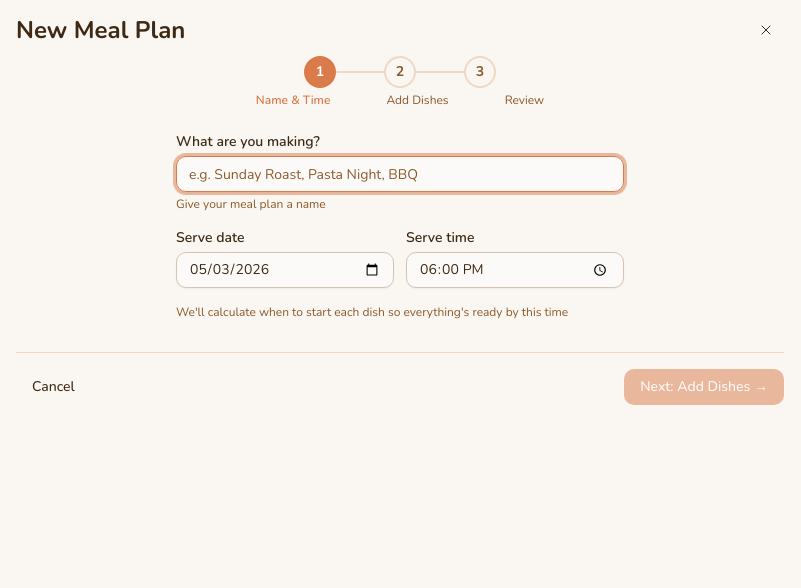
Test: CreatePlanWizard › Step 1 — Name & Time › navigates to step 2 when clicking Next
In the field labelled "What are you making?": (400, 174) [176,156,624,192], type "Test"
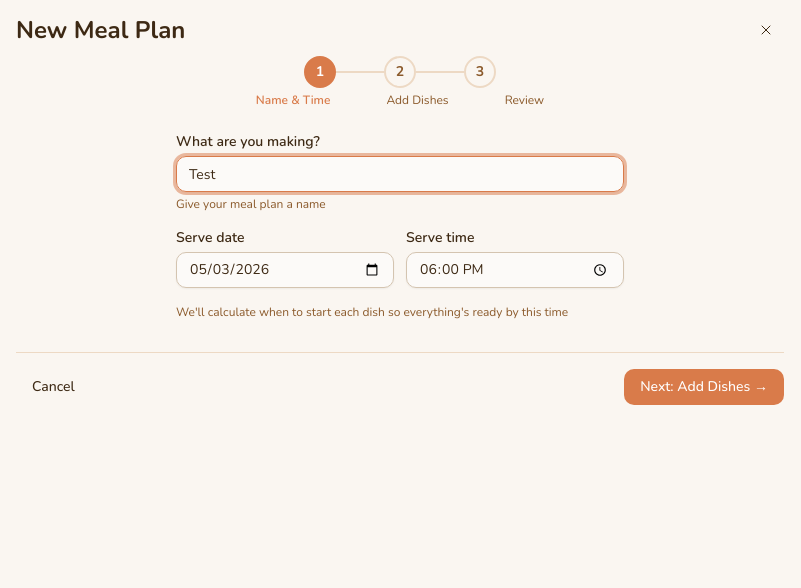
Click the button "Next: Add Dishes →": click(704, 387) [624,369,784,405]
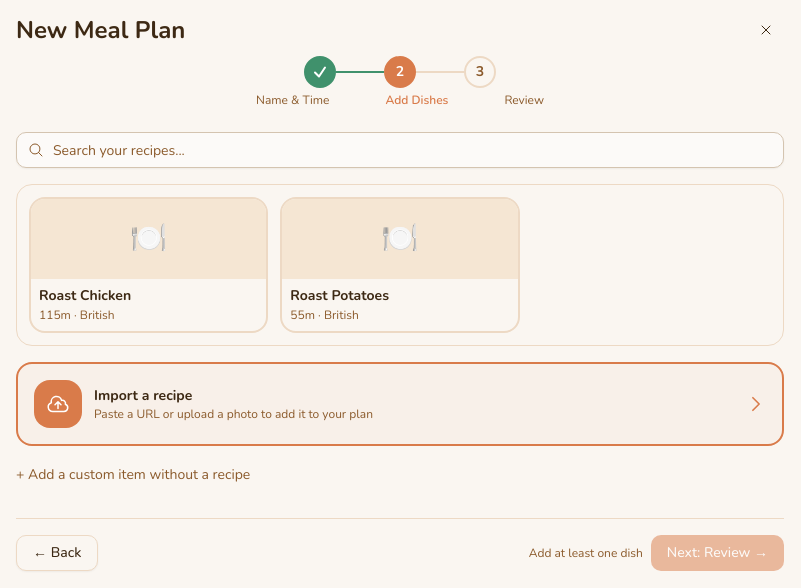
Now the field with placeholder "Search your recipes..." is shown, box [16,132,784,168]
